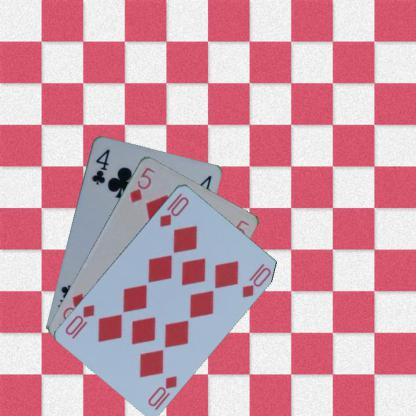10d: (157, 190, 190, 228), (145, 373, 179, 408)
4c: (89, 146, 111, 186)
5d: (125, 164, 156, 204)
